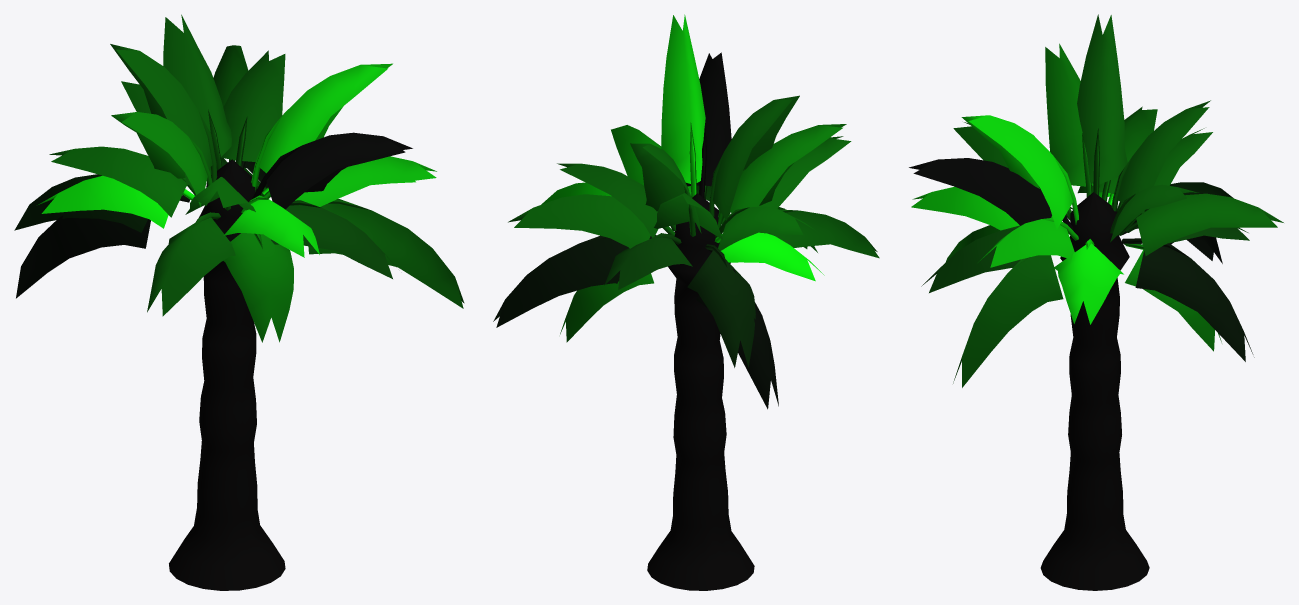
Rendered from M_P10_Tree_6.fbx.
3 views of the same model, side by side, from view 1: azimuth 30°, elevation 25°; view 2: azimuth 150°, elevation 25°; view 3: azimuth 270°, elevation 25° (orthographic). The views are drawn at different scales.
Parts seen in each view (by area): view 1: Palm_1_6; view 2: Palm_1_6; view 3: Palm_1_6.
Boxes of the visible parts, left/top/right/bottom form: Palm_1_6: left=14, top=14, right=464, bottom=590; Palm_1_6: left=493, top=14, right=879, bottom=590; Palm_1_6: left=909, top=14, right=1283, bottom=590.
Size of the model in its own units: 284 by 433 by 293.
